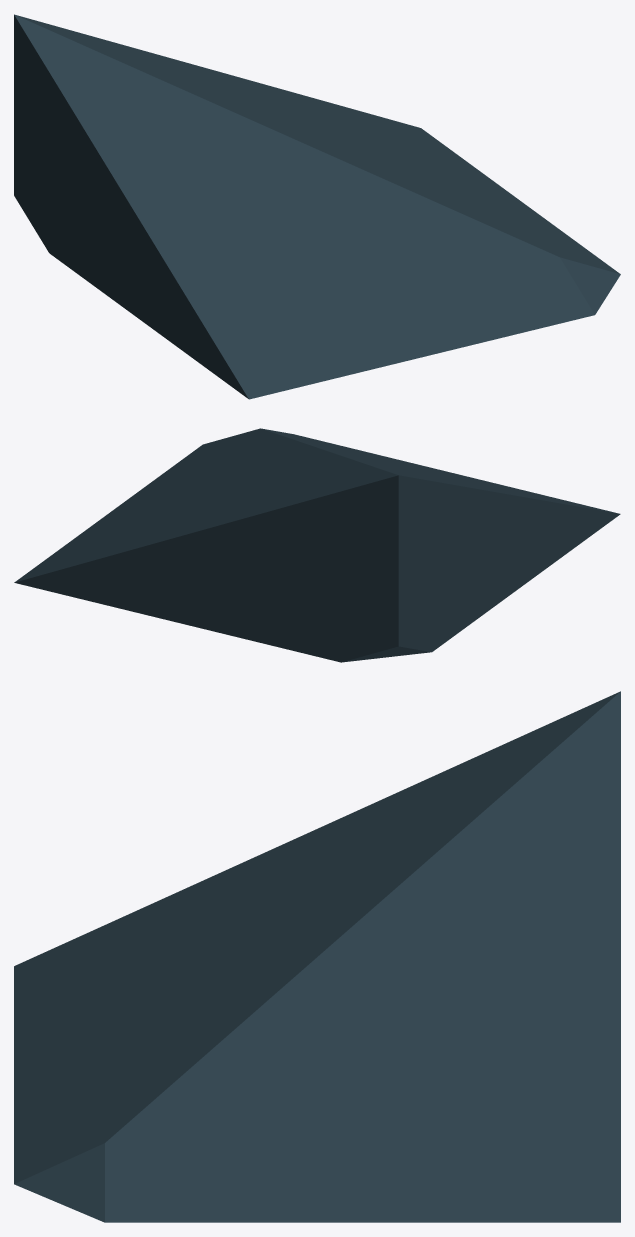
The model's file is ramp_long_straight_narrow_half_corner_conv.fbx.
The picture shows the model from 3 angles, top to bottom: view 1: azimuth 30°, elevation 25°; view 2: azimuth 150°, elevation 25°; view 3: azimuth 270°, elevation 25°; orthographic projection. The views are drawn at different scales.
Visible parts, largest first — view 1: ramp_long_straight_narrow_half_corner_conv; view 2: ramp_long_straight_narrow_half_corner_conv; view 3: ramp_long_straight_narrow_half_corner_conv.
Part boxes in pixels (x1,y1,x2,y2): ramp_long_straight_narrow_half_corner_conv: (14, 14, 620, 399); ramp_long_straight_narrow_half_corner_conv: (14, 428, 620, 662); ramp_long_straight_narrow_half_corner_conv: (14, 691, 620, 1222).
Size of the model in its own units: 100 by 50 by 100.
